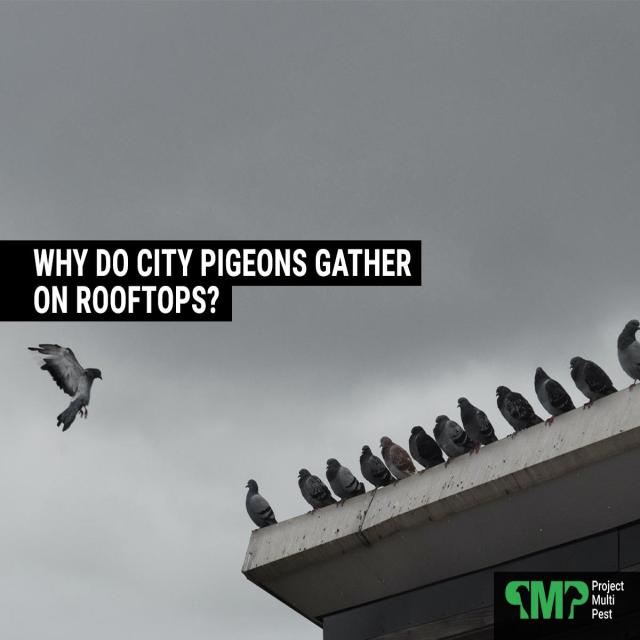bird: (452, 390, 500, 460), (494, 377, 541, 446), (565, 353, 616, 413), (378, 433, 423, 499), (531, 367, 572, 435), (292, 464, 334, 523), (241, 474, 281, 534), (406, 425, 444, 488), (613, 315, 640, 395), (326, 457, 363, 513), (436, 413, 472, 468), (355, 444, 388, 495)
